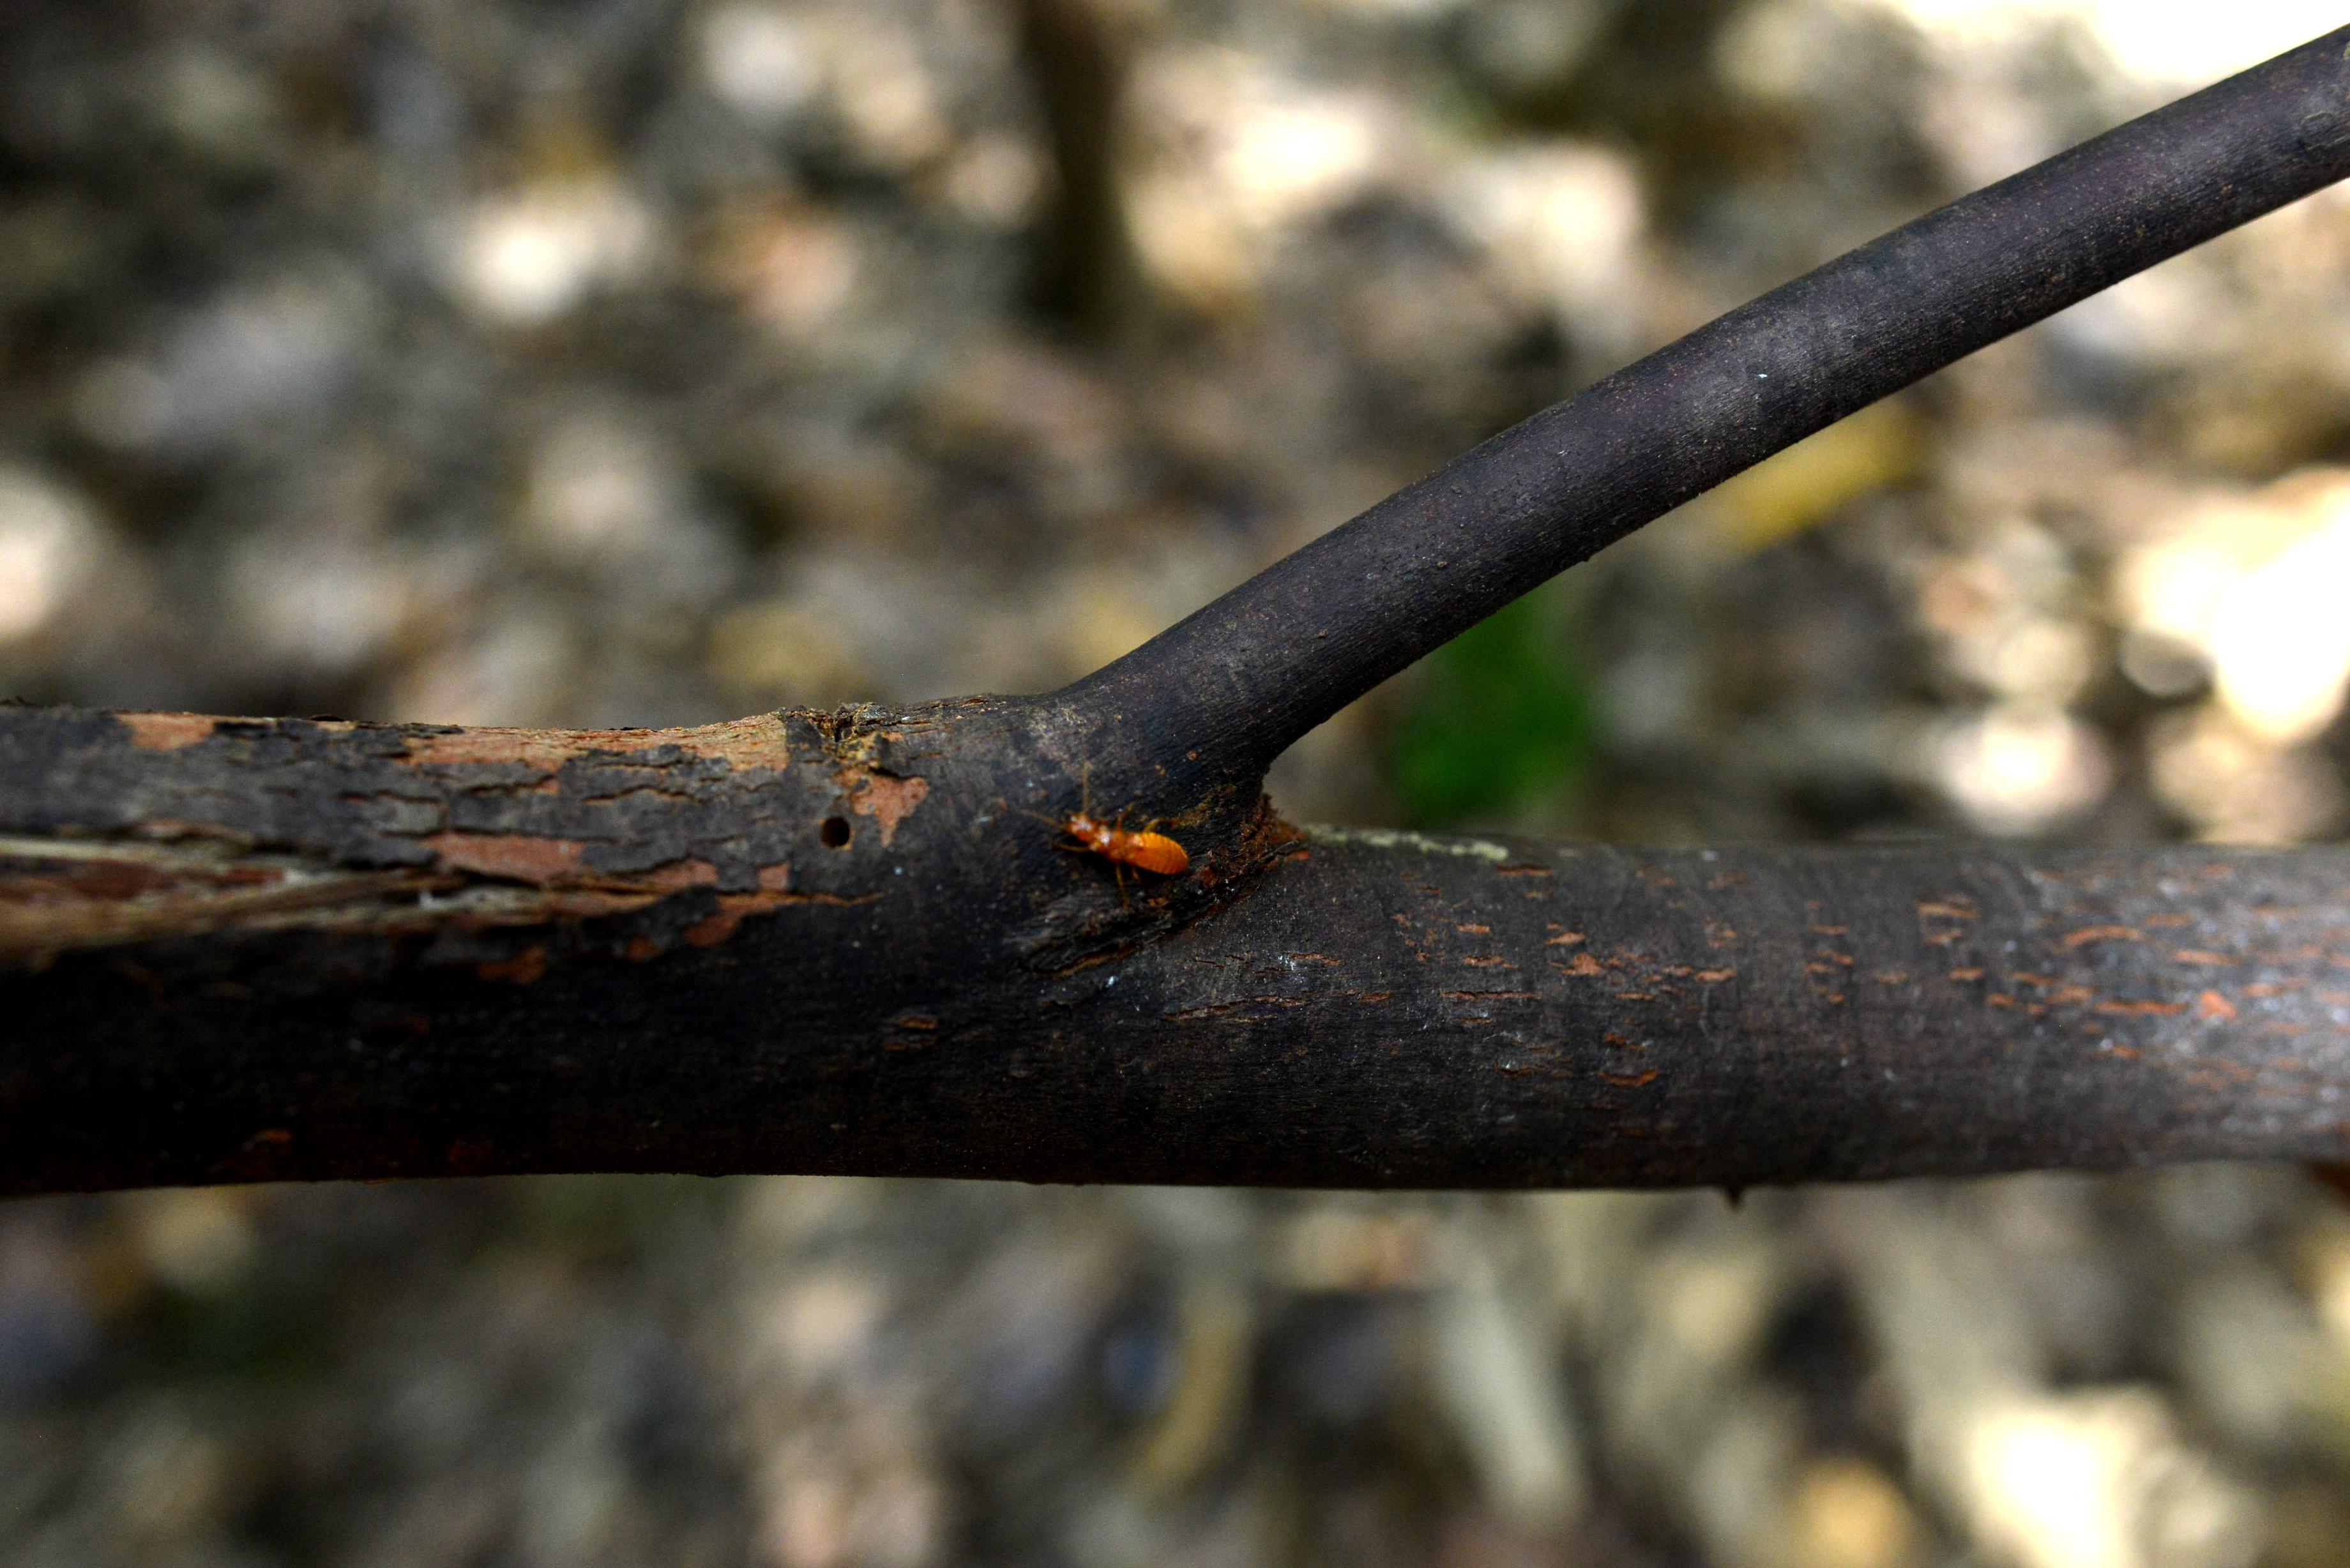Termite: (1048, 798, 1213, 884)
